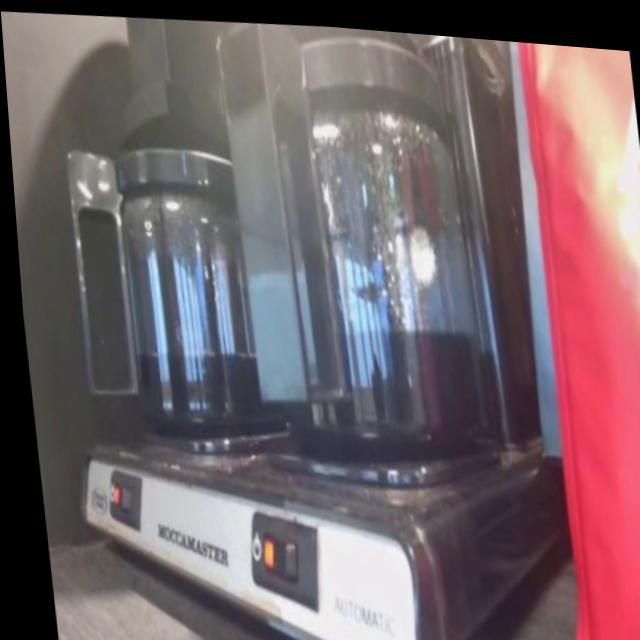coffee: (258, 107, 485, 452), (116, 196, 276, 431)
